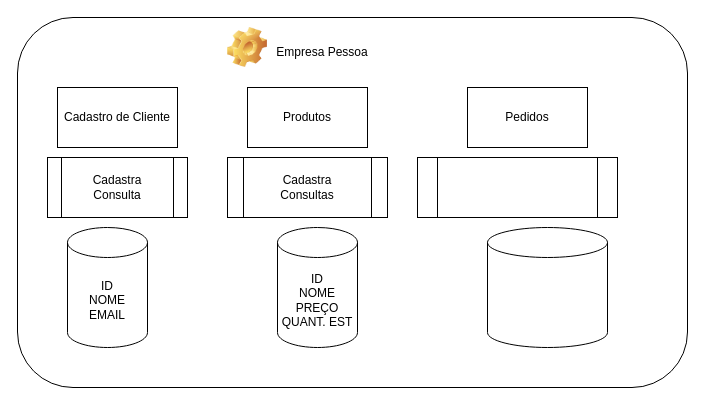
Image size: 705x405. Some labels were removed from this diagram. The shapes that lost their labels are listed below. From the top down, each one's box as (x1, y1, x2, y2) in pixels, then its label:
(416, 156, 618, 218): Cria pedido Um pedido pode ter X prod
(486, 226, 608, 348): PRODUTO QUANTIDADE PREÇO DA COMP
